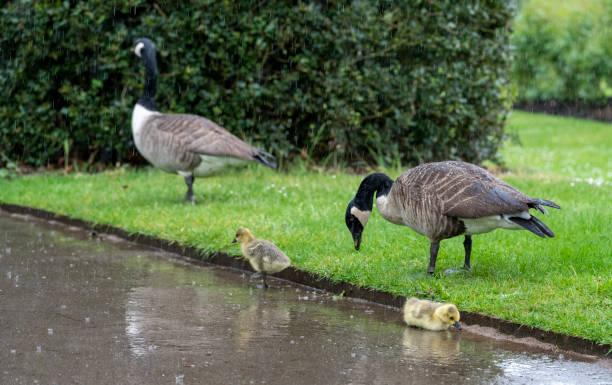Canadian-Goose: (123, 38, 270, 202), (341, 154, 553, 260), (231, 227, 285, 285), (401, 295, 464, 335)
